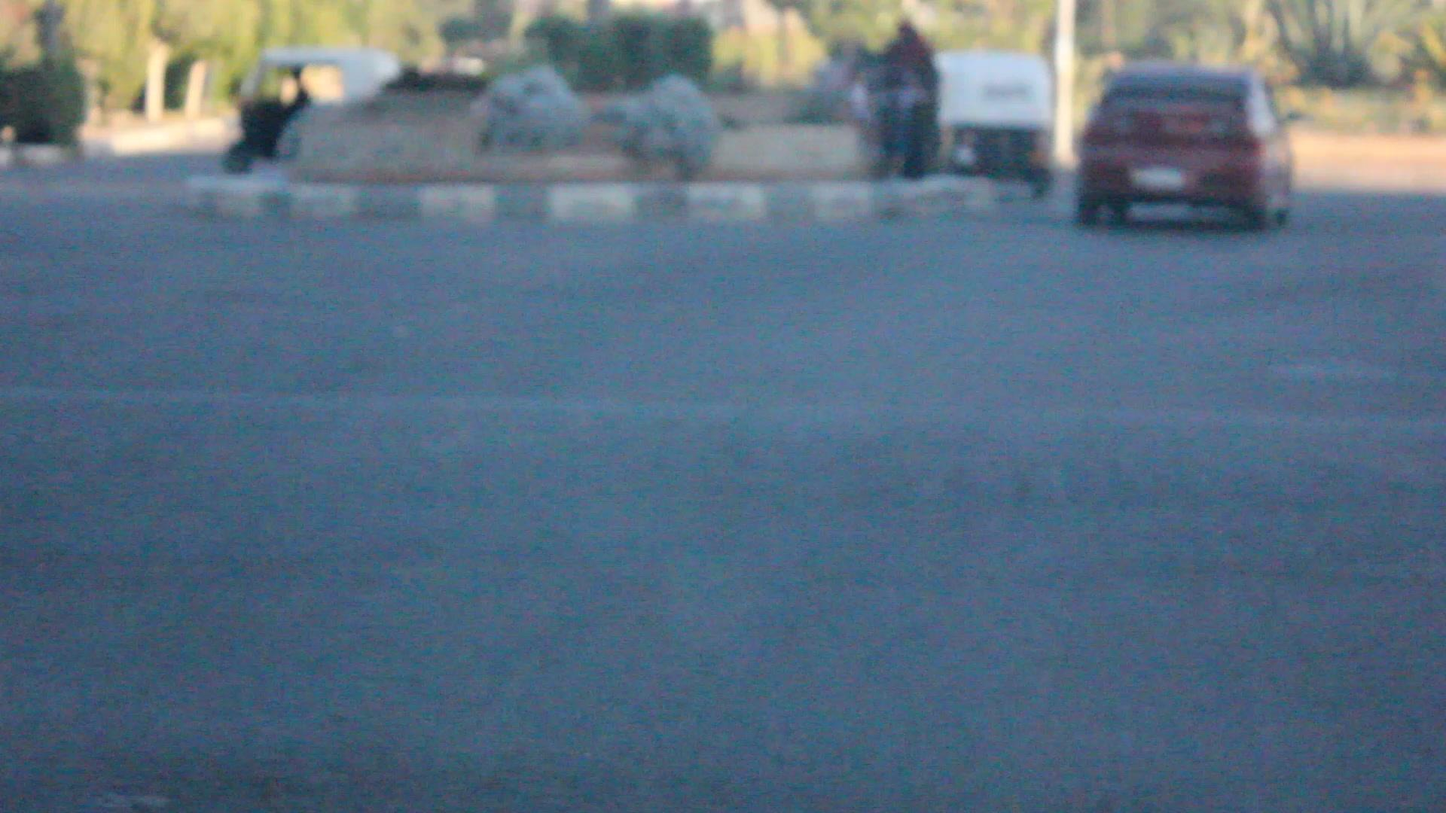Bump: (0, 384, 1446, 582)
